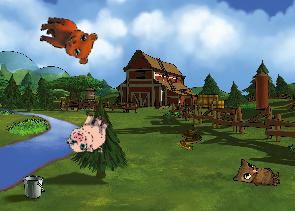bear: (34, 14, 99, 66)
owl: (233, 158, 280, 186)
pig: (63, 107, 114, 160)
